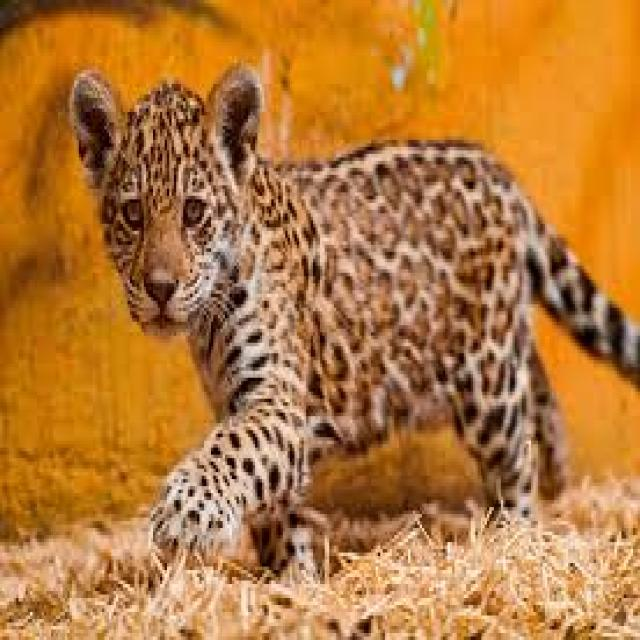Jaguar: (60, 56, 640, 594)
